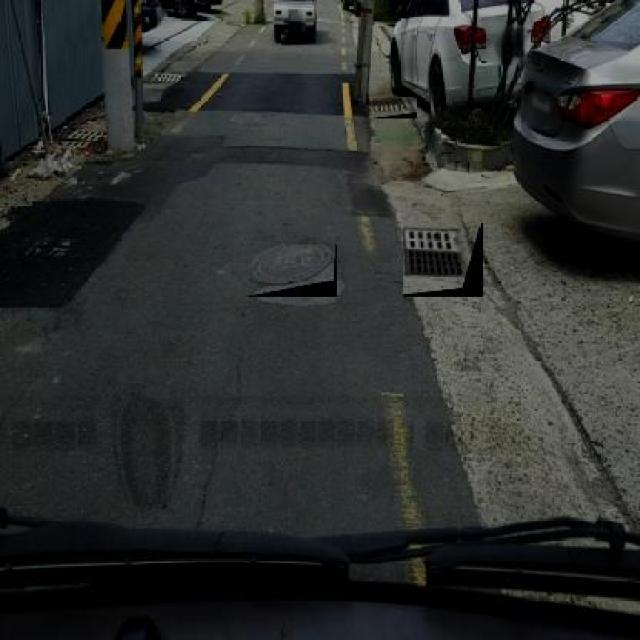Manhole: (248, 245, 337, 298), (403, 223, 460, 251), (404, 252, 465, 275), (372, 98, 417, 119), (65, 126, 98, 140), (150, 71, 183, 83), (60, 140, 84, 148)
